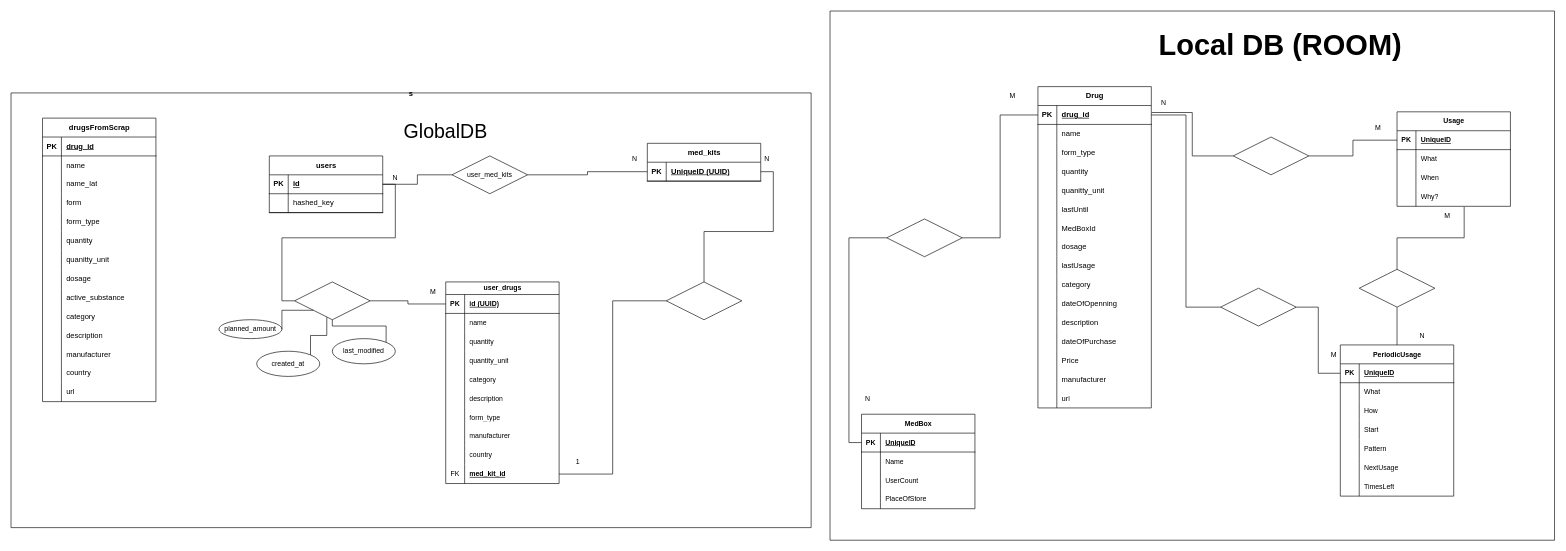
Some shapes in this 1566 by 551 pixel diagram are drawn without their labels. Each missing label, with the centre of its shape:
Lies in: (704,300)
LiesIn: (924,237)
UsageHistory: (1397,288)
Used: (1271,155)
Using: (1258,307)
usings: (332,300)
